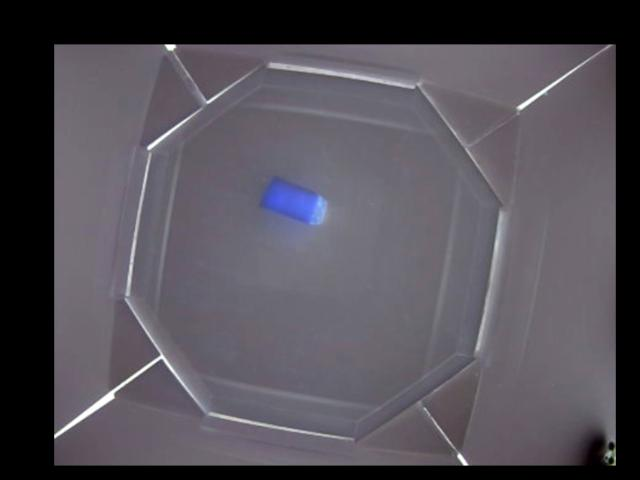Potato: (261, 176, 326, 224)
